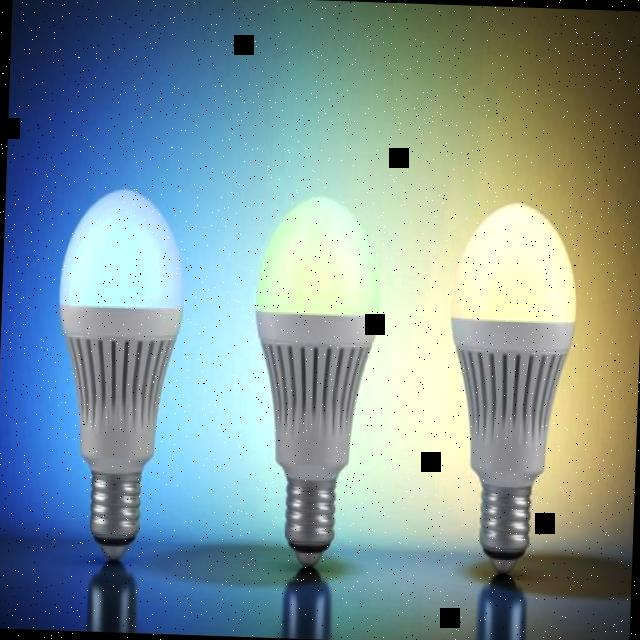light_bulb: (239, 165, 393, 580), (432, 178, 588, 587), (43, 161, 191, 581)
